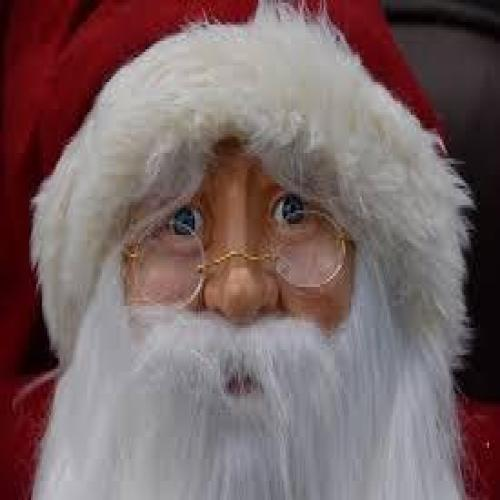Santa: (3, 2, 466, 500)
